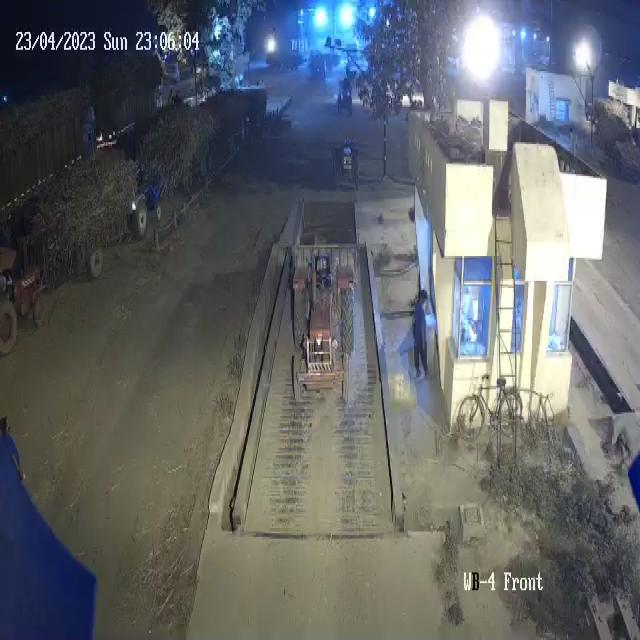Tratores - v5 YOLO V8L 2024-11-13: (288, 267, 356, 411), (329, 128, 364, 195)
